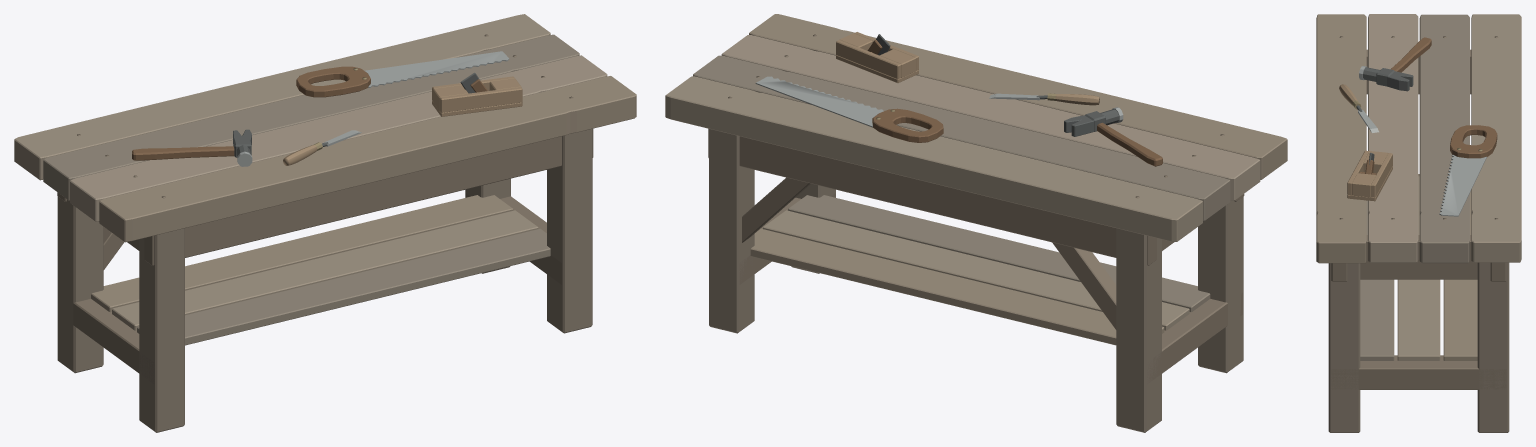
File: work_bench-C6g9xQdx.glb
3 views of the same model, side by side, from view 1: azimuth 30°, elevation 25°; view 2: azimuth 150°, elevation 25°; view 3: azimuth 270°, elevation 25° (orthographic). The views are drawn at different scales.
Visible parts, largest first — view 1: Body; view 2: Body; view 3: Body.
Boxes of the visible parts, left/top/right/bottom form: Body: left=14, top=14, right=636, bottom=432; Body: left=665, top=14, right=1287, bottom=432; Body: left=1316, top=14, right=1521, bottom=432.
Size of the model in its own units: 2 by 0.9701 by 0.7567.
